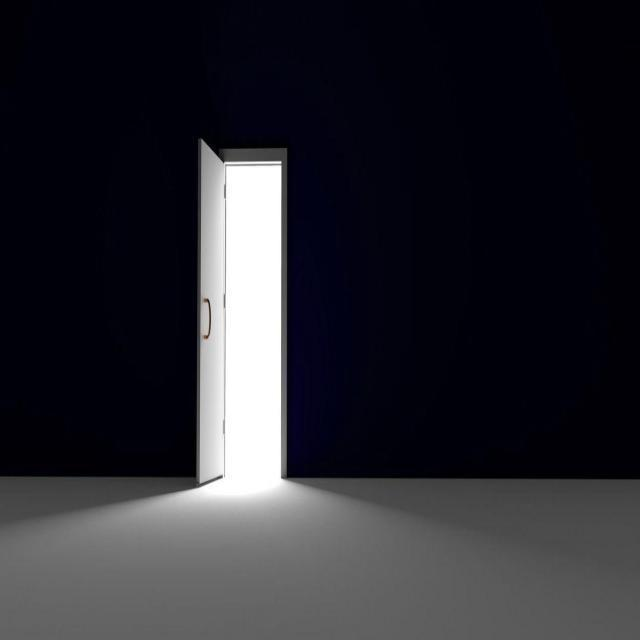door: (195, 137, 226, 484)
